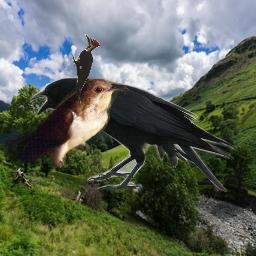Crow: (30, 77, 237, 192)
Cuckoo: (5, 78, 129, 168)
Woodpecker: (69, 34, 100, 103)
